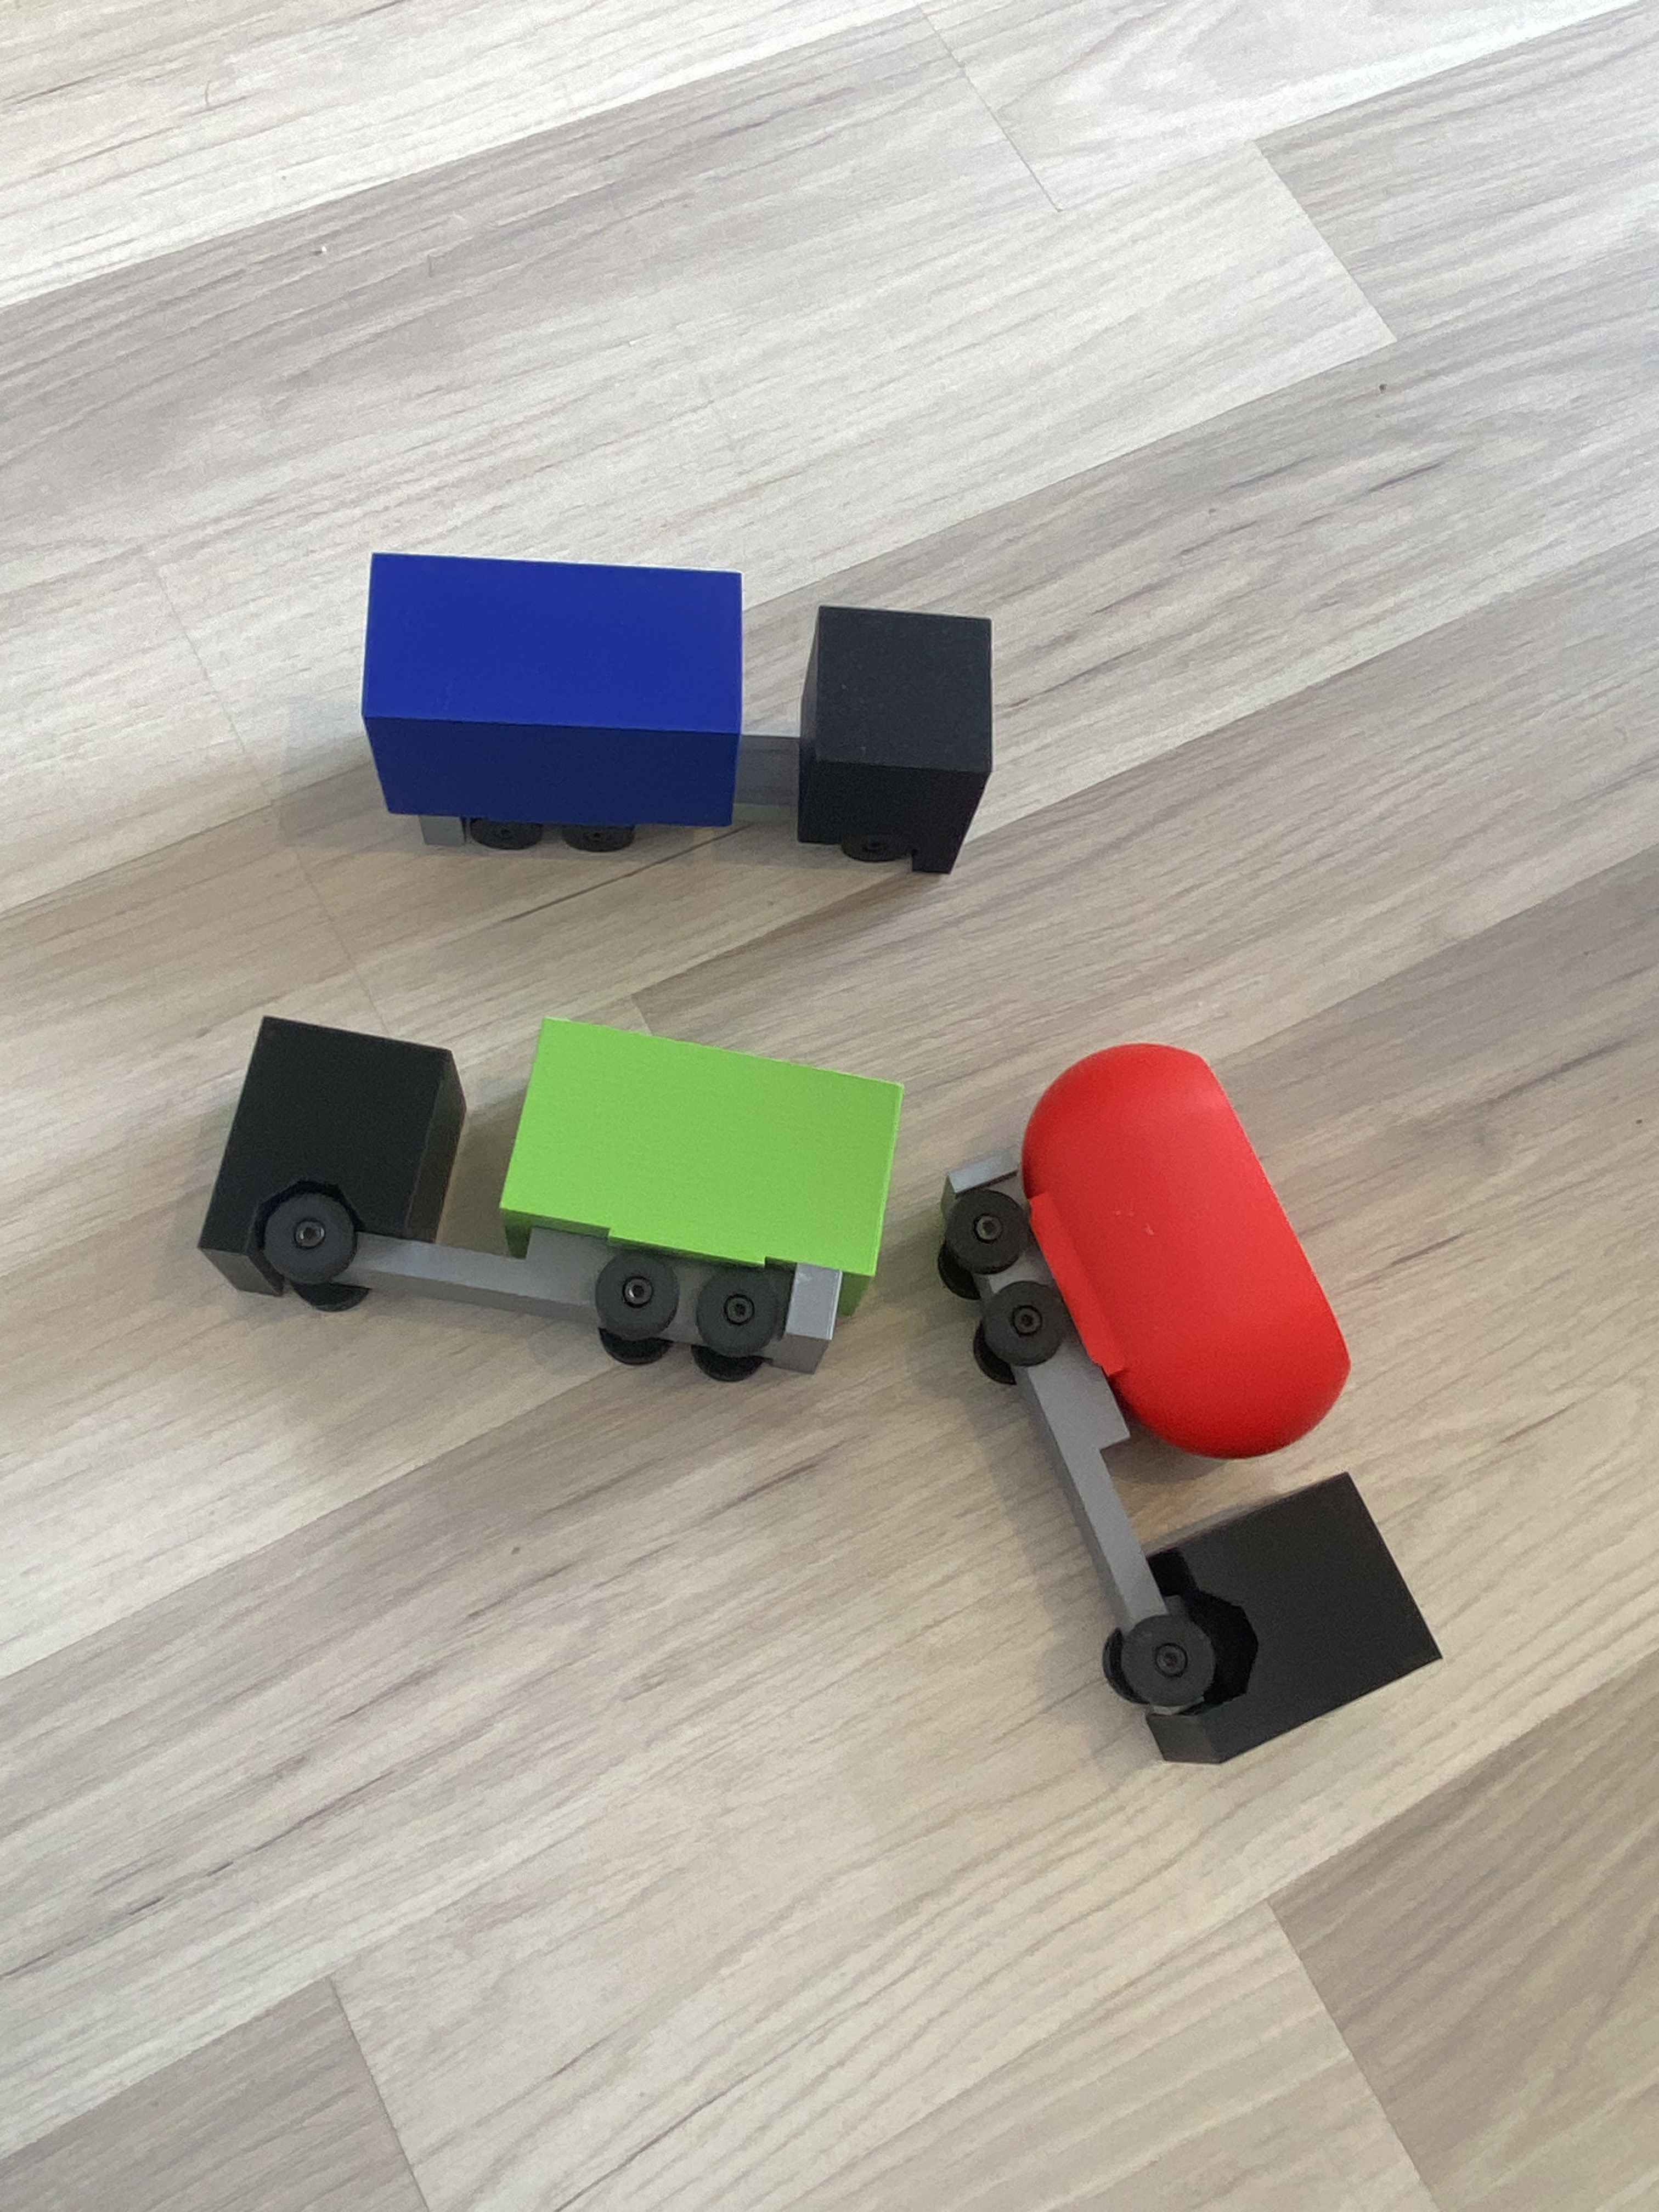blue_truck: (347, 521, 1006, 892)
green_truck: (425, 820, 746, 1564)
red_truck: (986, 1031, 1347, 1756)
